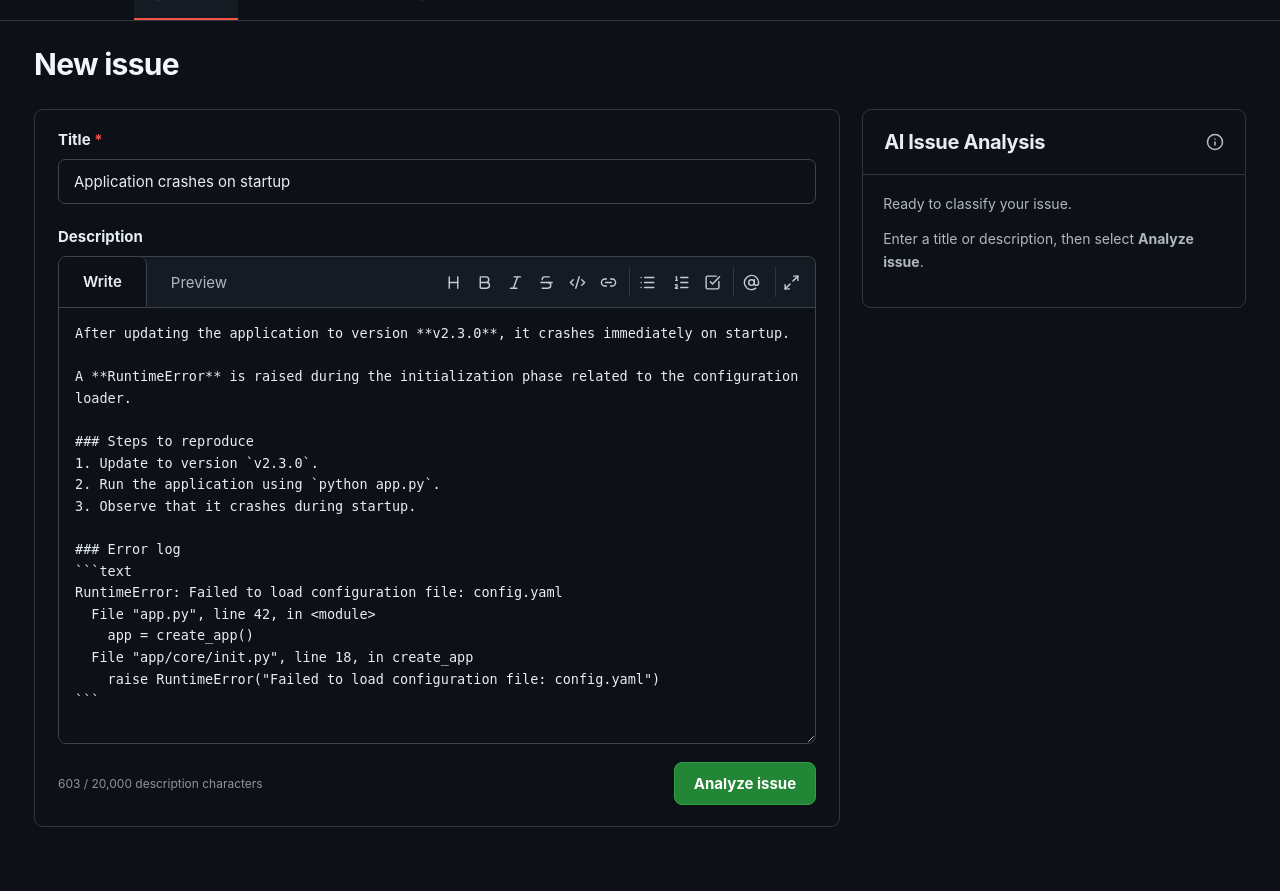
it: App integration › displays the prediction returned by the API
(page scrolled)
Step 1. Click the button "Analyze issue" → {"x": 745, "y": 784}, box [674,762,816,805]
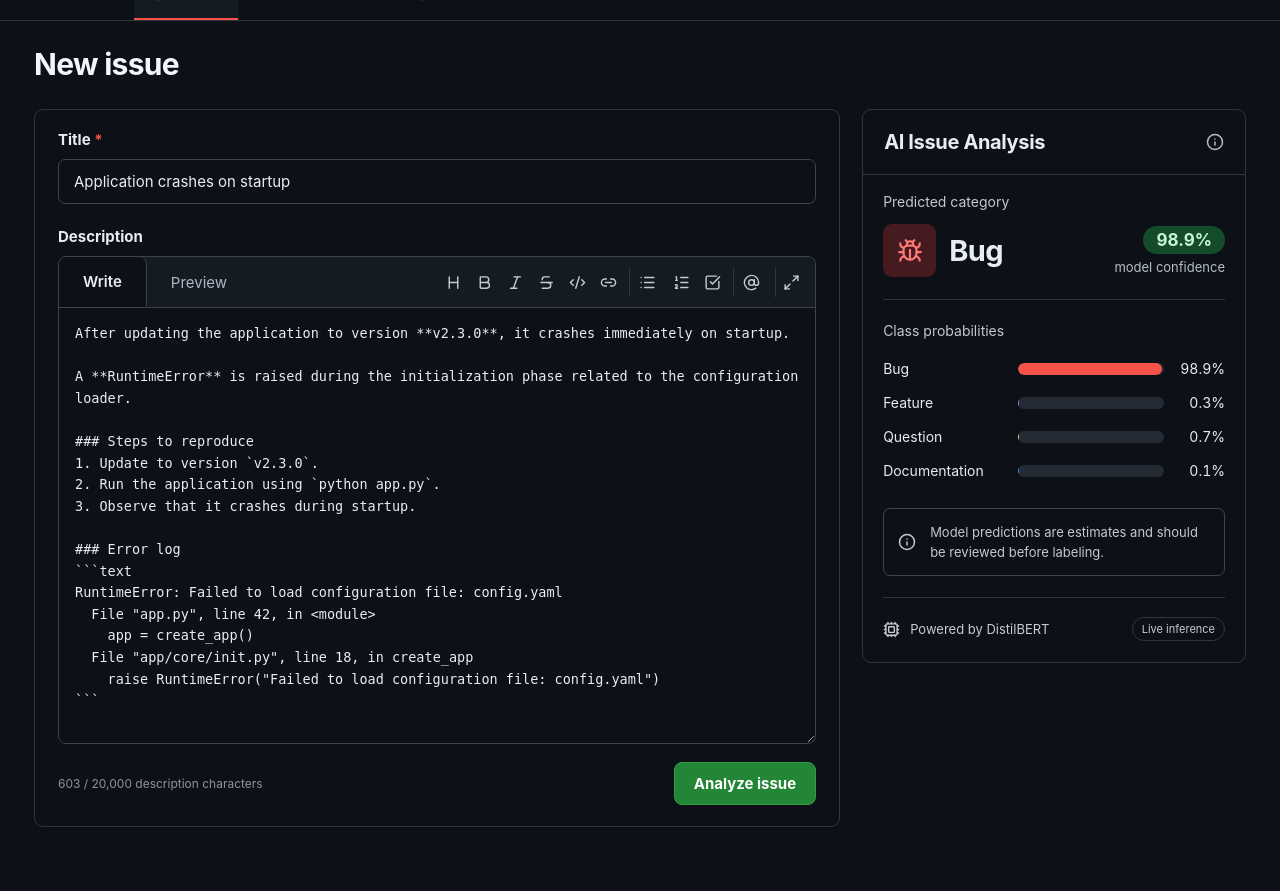
Check: the text "98.9%" is shown 2 times, box [1144,226,1225,254]; [1174,360,1225,377]
Check: the text "Live inference" is shown, box [1132,617,1225,641]
